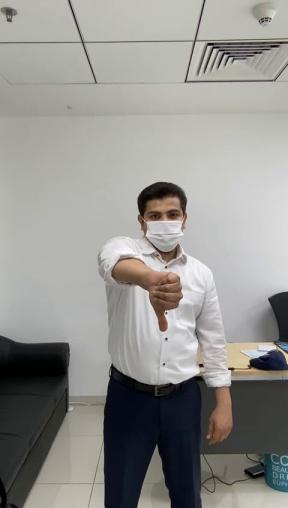thumbs-down: (143, 274, 196, 343)
